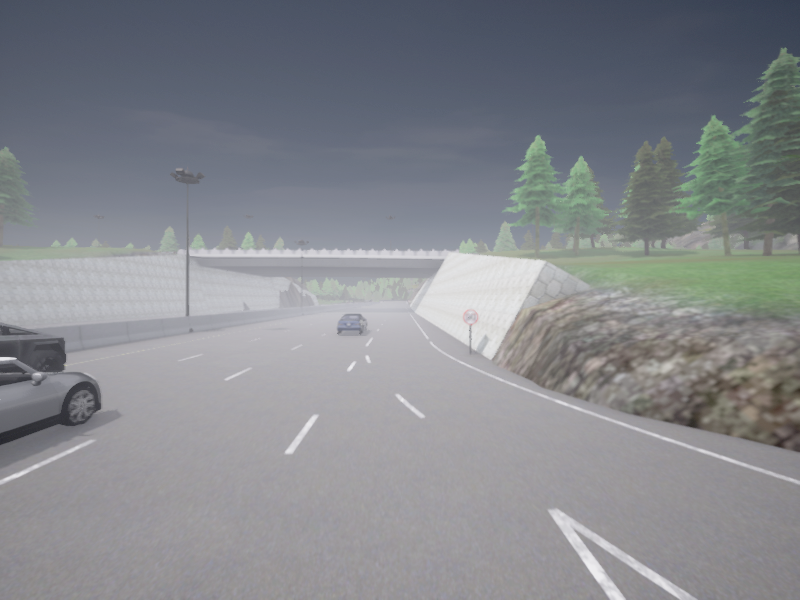vehicle: (0, 357, 101, 444), (0, 322, 65, 371), (337, 313, 367, 333)
